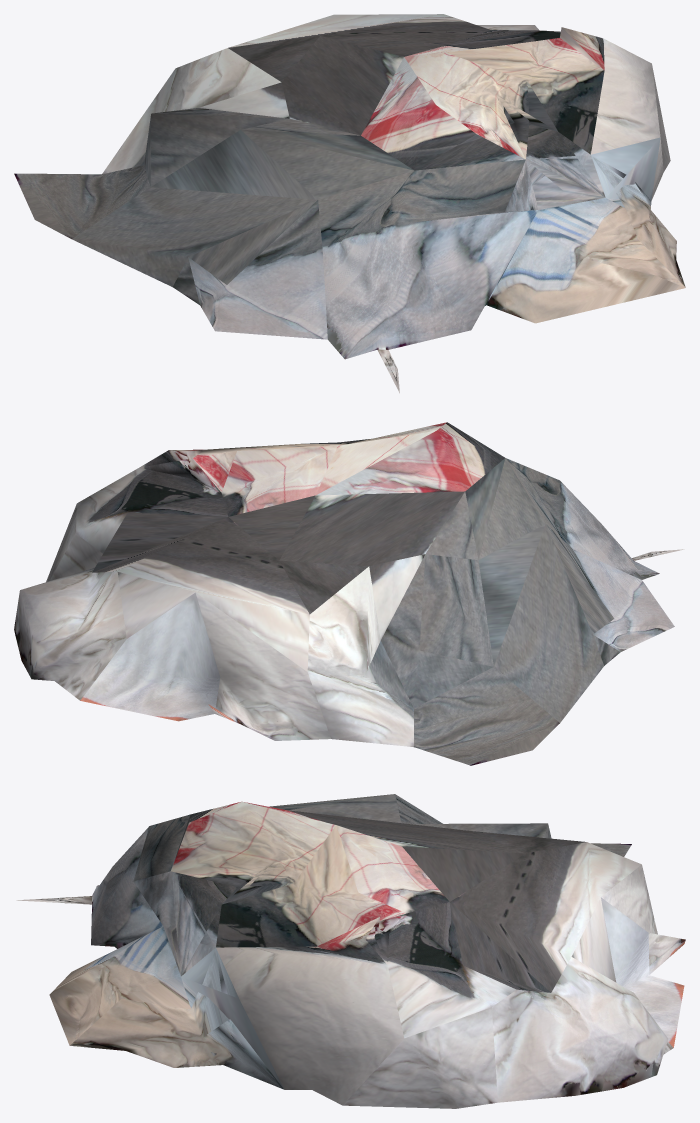
Rendered from Dirty Rags.fbx.
3 renders of one model, top to bottom at view 1: azimuth 30°, elevation 25°; view 2: azimuth 150°, elevation 25°; view 3: azimuth 270°, elevation 25°, orthographic. The views are drawn at different scales.
Visible parts, largest first — view 1: Dirty Rags; view 2: Dirty Rags; view 3: Dirty Rags.
Boxes of the visible parts, left/top/right/bottom form: Dirty Rags: left=14, top=14, right=685, bottom=393; Dirty Rags: left=14, top=422, right=684, bottom=765; Dirty Rags: left=16, top=794, right=685, bottom=1108.
Bounding box in the file's own units: 119 × 36.14 × 125.
Materials: 1 (1 with a texture image).
